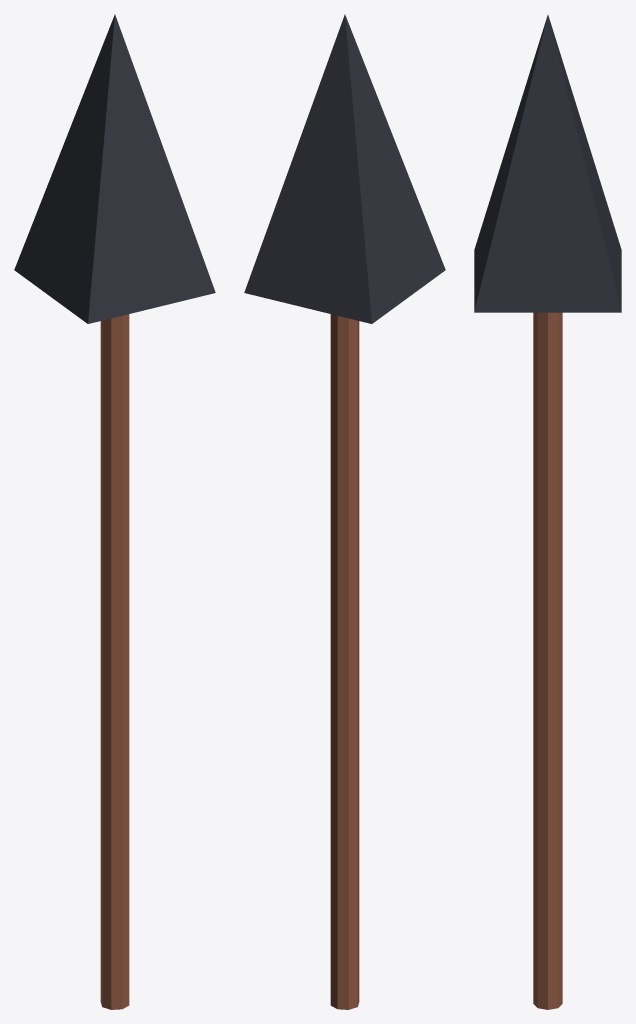
Rendered from Arrow 1.fbx.
The picture shows the model from 3 angles, left to right: view 1: azimuth 30°, elevation 25°; view 2: azimuth 150°, elevation 25°; view 3: azimuth 270°, elevation 25°; orthographic projection.
Visible parts, largest first — view 1: mergedBlocks; view 2: mergedBlocks; view 3: mergedBlocks.
Part boxes in pixels (x1,y1,x2,y2): mergedBlocks: (14, 14, 215, 1009); mergedBlocks: (244, 14, 445, 1009); mergedBlocks: (474, 15, 621, 1009).
Bounding box in the file's own units: 0.25 × 1.85 × 0.25.
